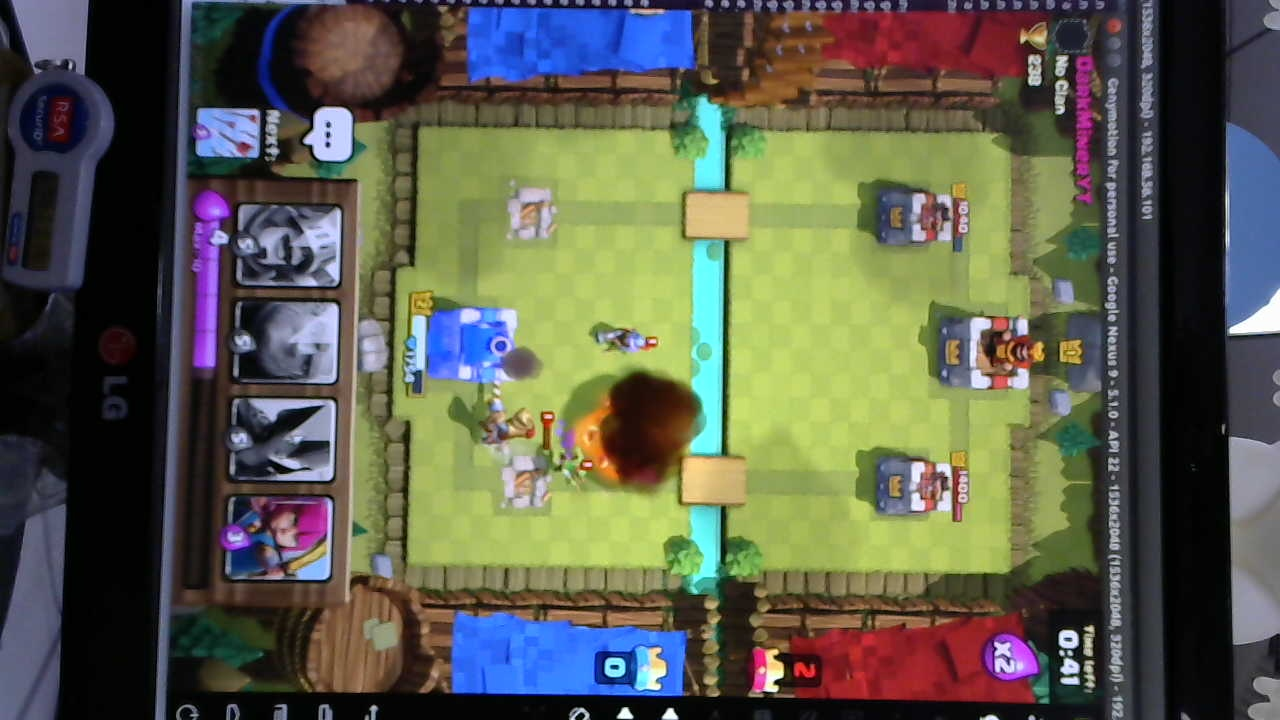darena: (501, 183, 557, 252), (495, 453, 543, 509)
earena: (870, 186, 955, 252), (873, 453, 954, 521)
eking: (941, 311, 1039, 394)
king: (427, 300, 520, 384)
musketeer: (590, 321, 652, 356)
prince: (482, 381, 537, 442)
speargoblin: (553, 446, 590, 487)
